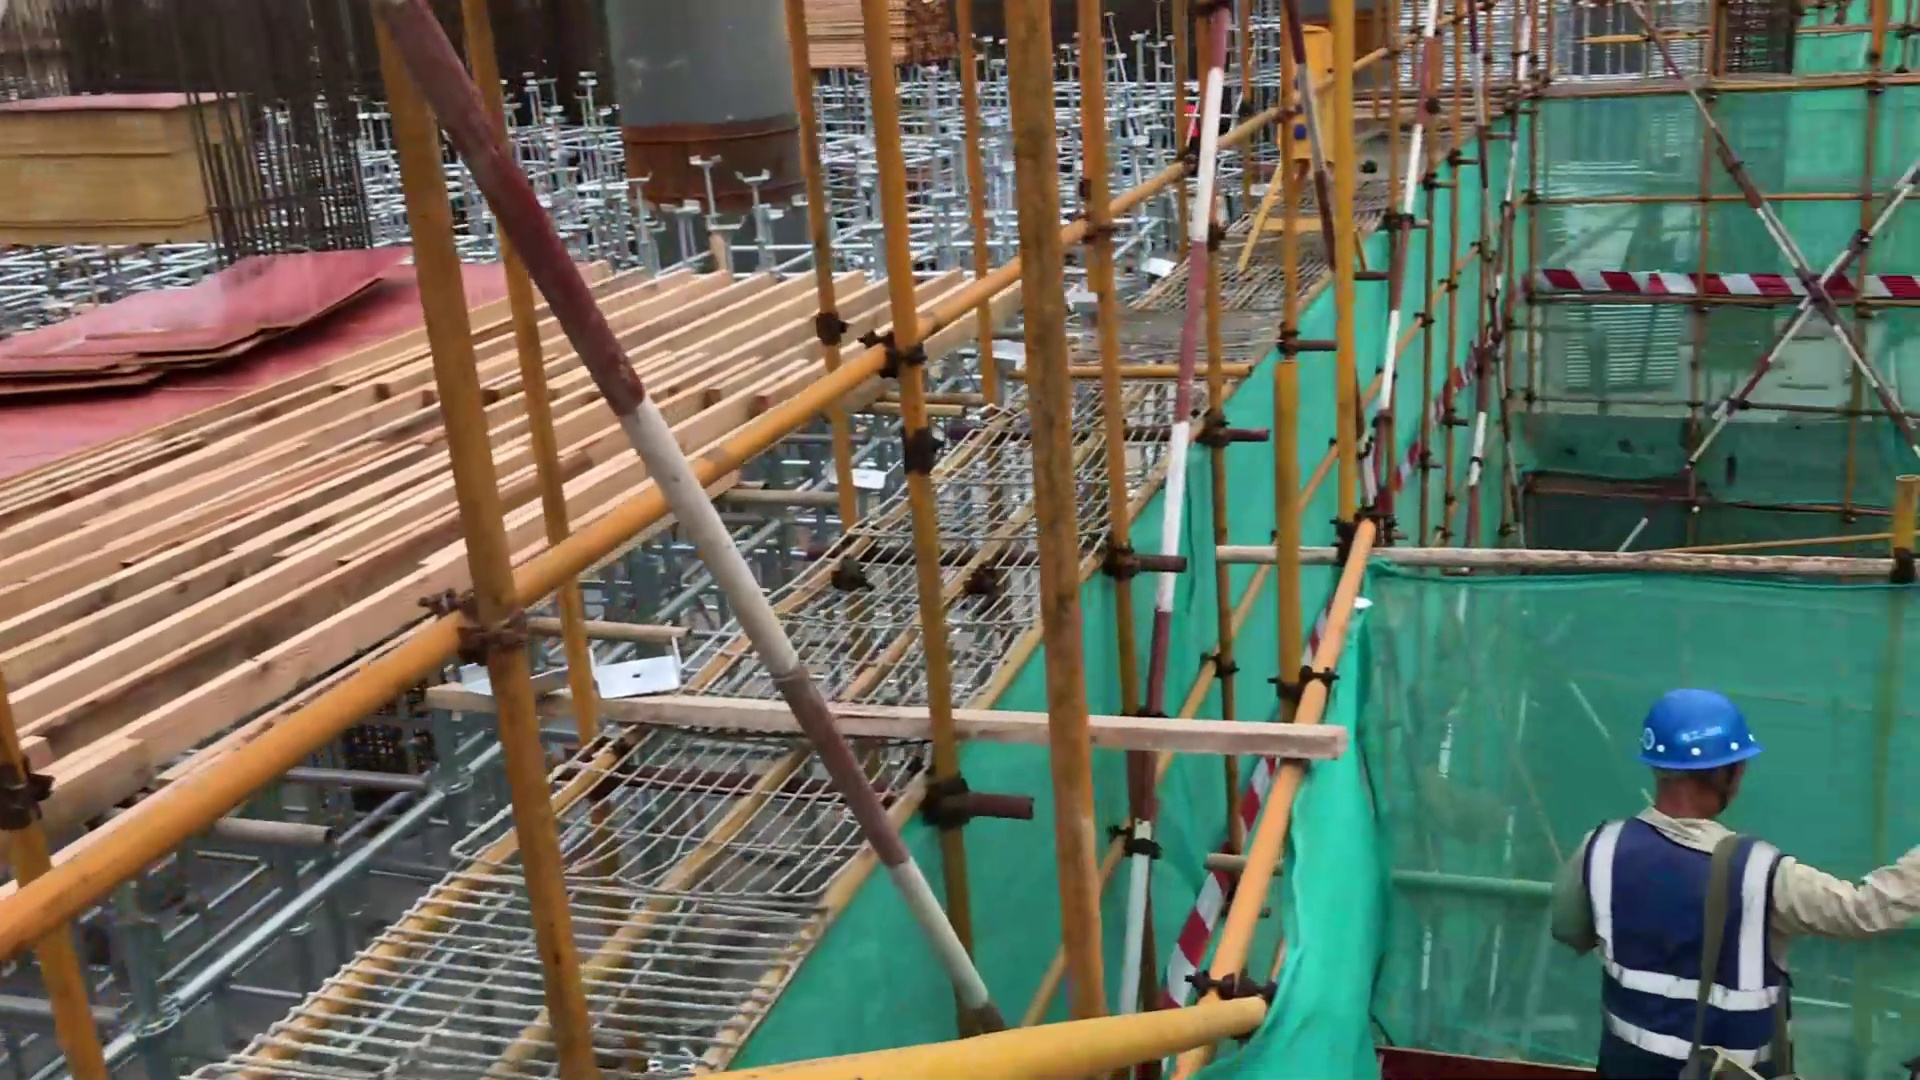board: (1, 230, 404, 416), (1, 74, 230, 229)
ebox: (1256, 23, 1350, 269)
helmet: (1631, 687, 1766, 772)
person: (1555, 685, 1920, 1079)
vest: (1581, 813, 1803, 1079)
wood: (70, 444, 497, 753), (796, 1, 958, 86)
